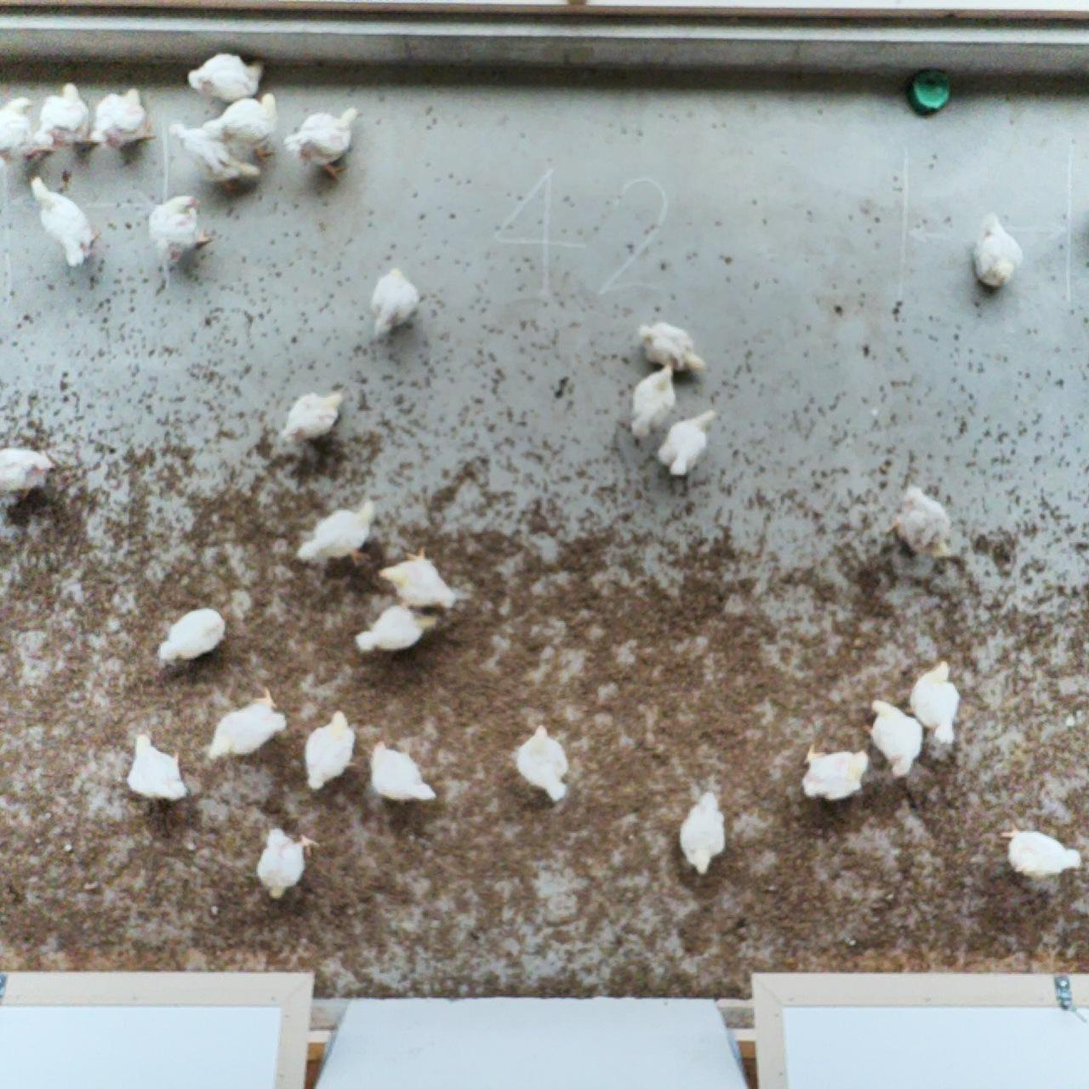chicken: (26, 172, 103, 272), (204, 681, 289, 771), (169, 118, 265, 197), (201, 89, 285, 171), (295, 496, 381, 573), (281, 104, 362, 183), (901, 655, 965, 754), (878, 482, 955, 564), (996, 816, 1086, 884), (858, 695, 926, 783), (125, 726, 194, 811), (374, 545, 459, 613), (146, 191, 218, 270), (254, 821, 323, 902), (32, 79, 101, 159), (511, 718, 573, 804), (362, 264, 425, 348), (673, 787, 729, 878), (967, 208, 1026, 294), (367, 733, 437, 805), (796, 740, 877, 802), (654, 406, 721, 480), (350, 602, 440, 655), (91, 84, 158, 155), (626, 358, 682, 442), (154, 604, 231, 665), (274, 389, 346, 453), (185, 49, 268, 103), (635, 318, 710, 376), (0, 441, 57, 505), (0, 95, 41, 165)
